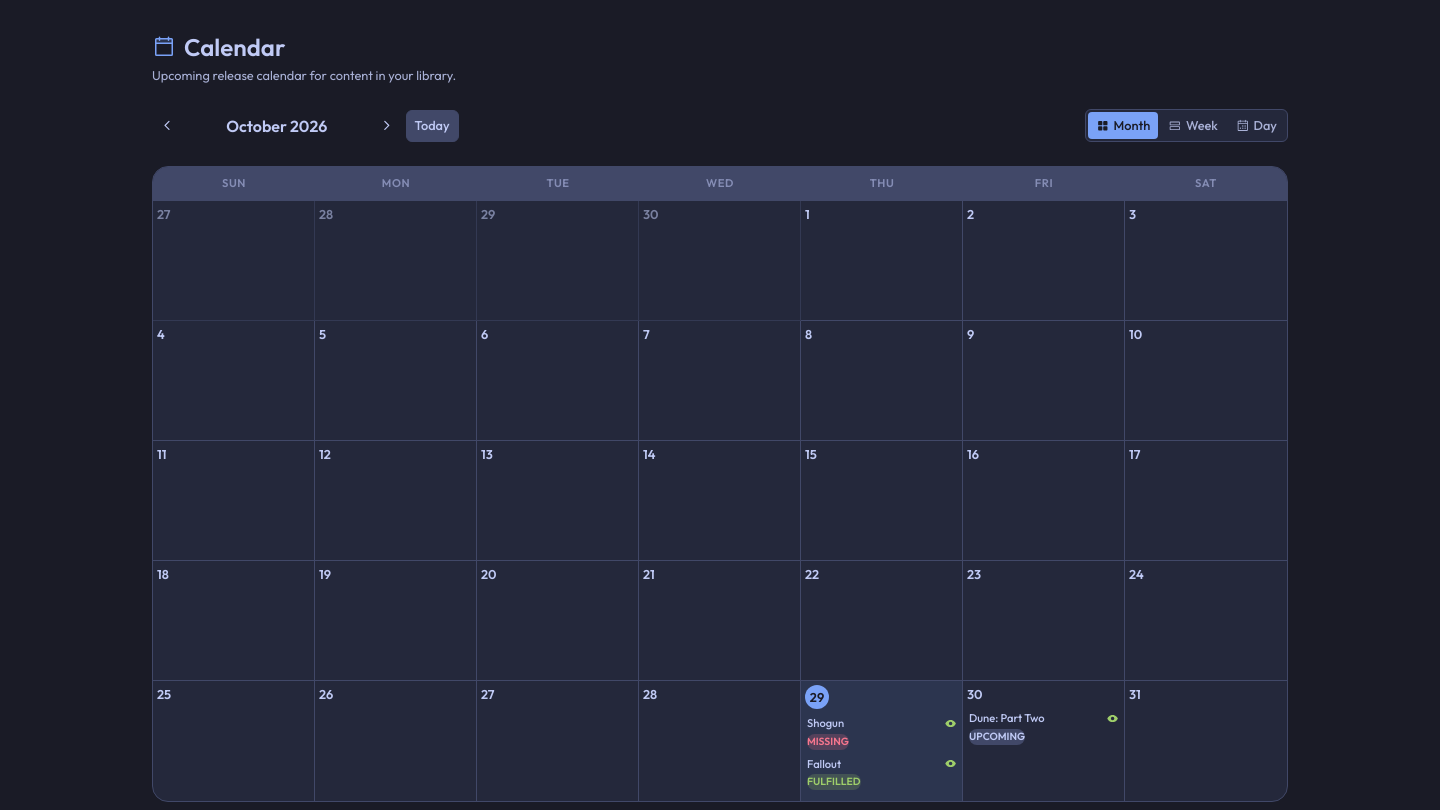
Test: CalendarPage view switcher › switches to week view when week button is clicked
This screenshot has width=1440, height=810.
Click the button "Week" at (1193, 126), box [1160,112,1226,139]
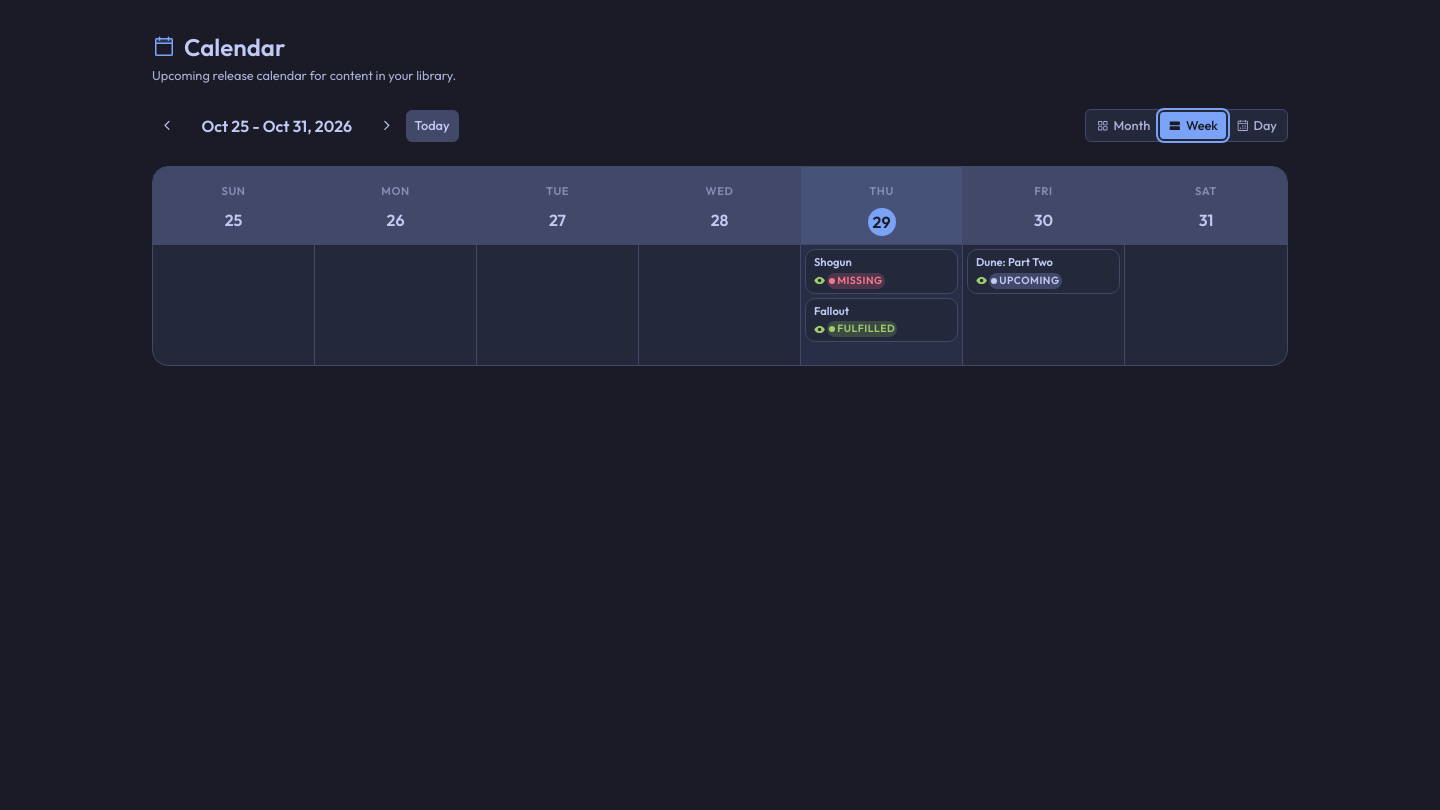
Expected: the element that starts with "Sun" is shown, [152,166,1288,366]
